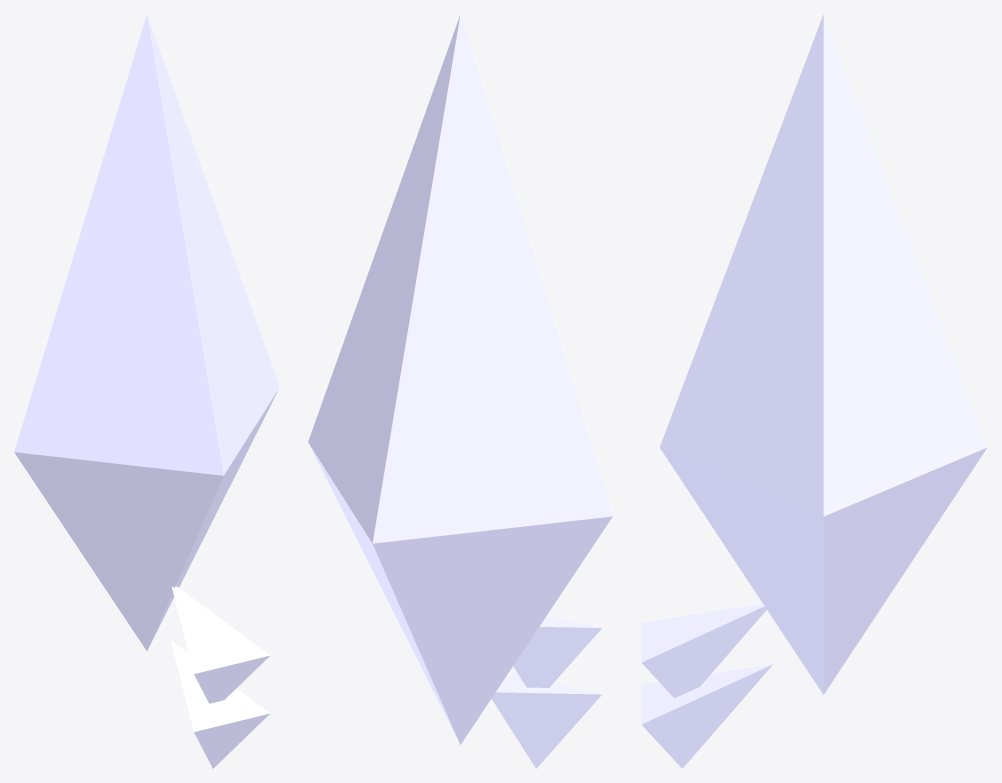
File: enemy_stealth.glb
3 renders of one model, left to right at view 1: azimuth 30°, elevation 25°; view 2: azimuth 150°, elevation 25°; view 3: azimuth 270°, elevation 25°, orthographic. The views are drawn at different scales.
Visible parts, largest first — view 1: enemy_stealth; view 2: enemy_stealth; view 3: enemy_stealth.
Boxes of the visible parts, <box> form: enemy_stealth: <box>14,14,279,768</box>; enemy_stealth: <box>308,14,612,768</box>; enemy_stealth: <box>641,14,987,768</box>.
Bounding box in the file's own units: 0.24 × 0.6096 × 0.2533.
